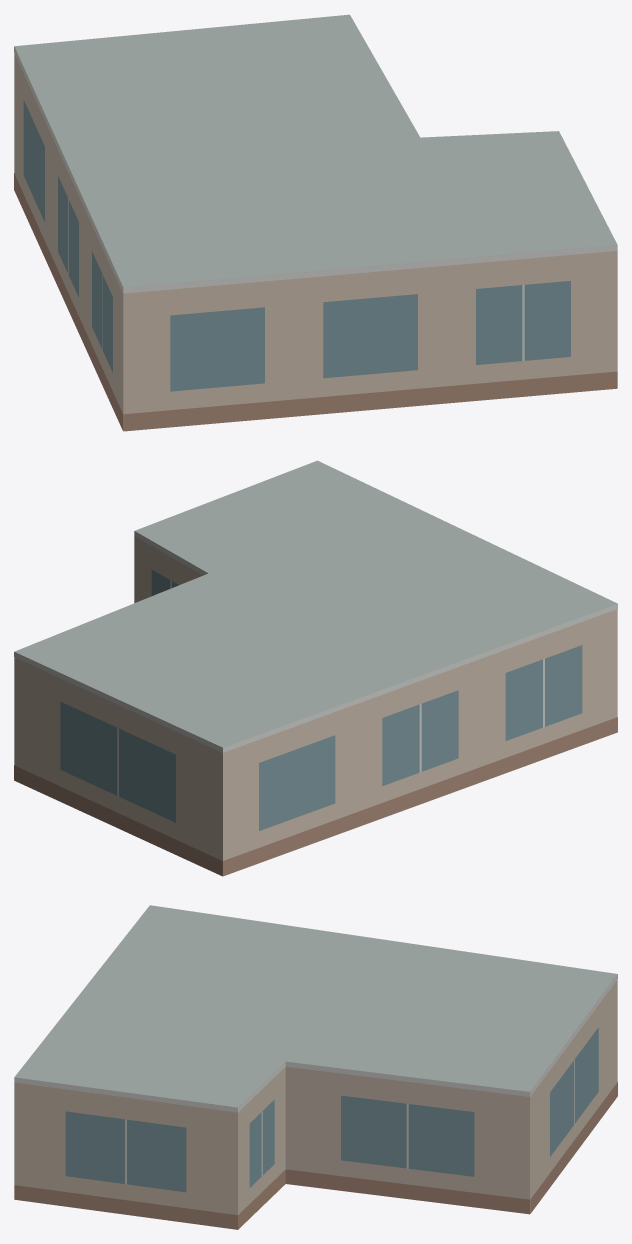
The model's file is survey-upis-32742162.glb.
The picture shows the model from 3 angles, top to bottom: view 1: azimuth 30°, elevation 25°; view 2: azimuth 150°, elevation 25°; view 3: azimuth 270°, elevation 25°; orthographic projection. The views are drawn at different scales.
Visible parts, largest first — view 1: survey-upis-32742162.tmp; view 2: survey-upis-32742162.tmp; view 3: survey-upis-32742162.tmp.
Boxes of the visible parts, bbox=[...] form: survey-upis-32742162.tmp: bbox=[14, 14, 617, 431]; survey-upis-32742162.tmp: bbox=[14, 460, 617, 876]; survey-upis-32742162.tmp: bbox=[14, 905, 617, 1229].
Bounding box in the file's own units: 10.84 × 3.05 × 13.66.
